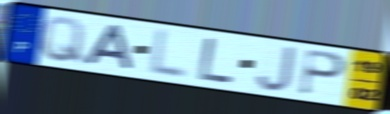A: (82, 23, 136, 73)
J: (254, 44, 298, 93)
L: (146, 27, 190, 82), (197, 35, 237, 85)
P: (296, 47, 349, 98)
Q: (38, 15, 87, 66)
